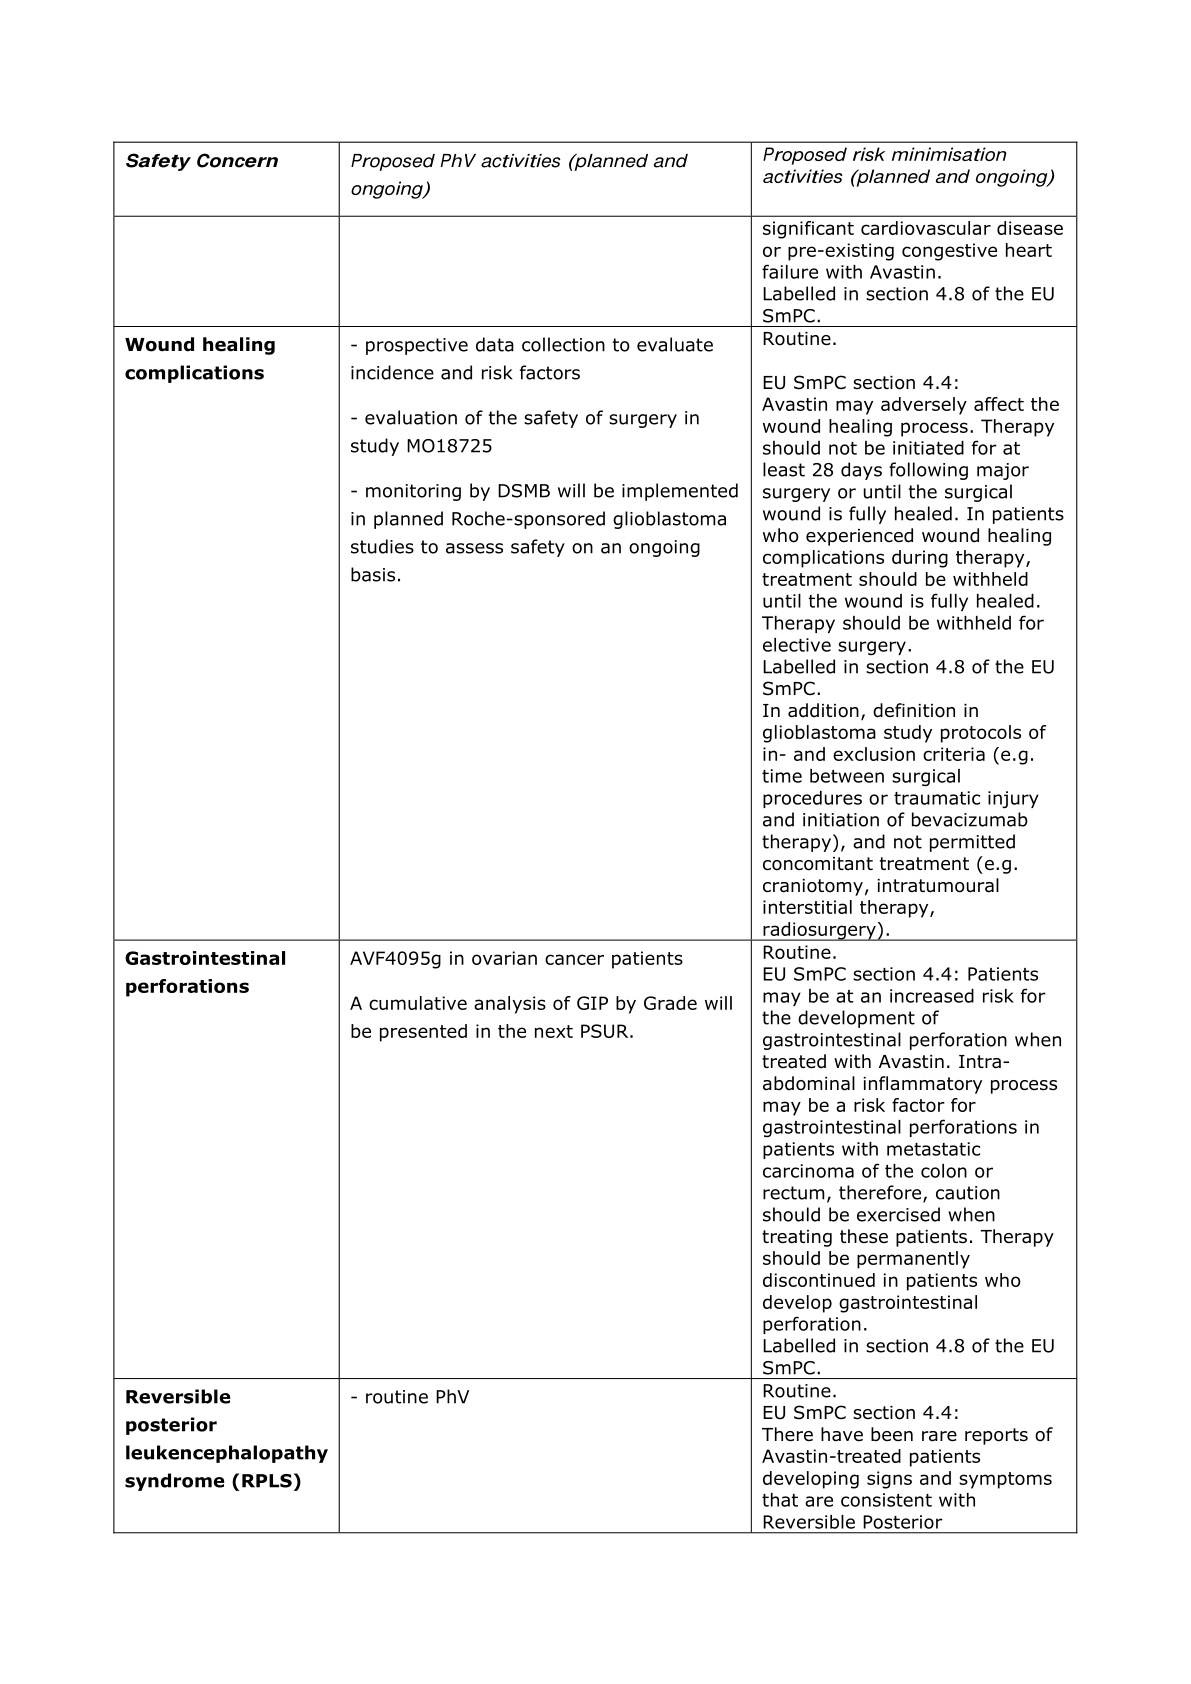full_lined: (111, 140, 1080, 1536)
